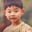face: (1, 1, 26, 24)
